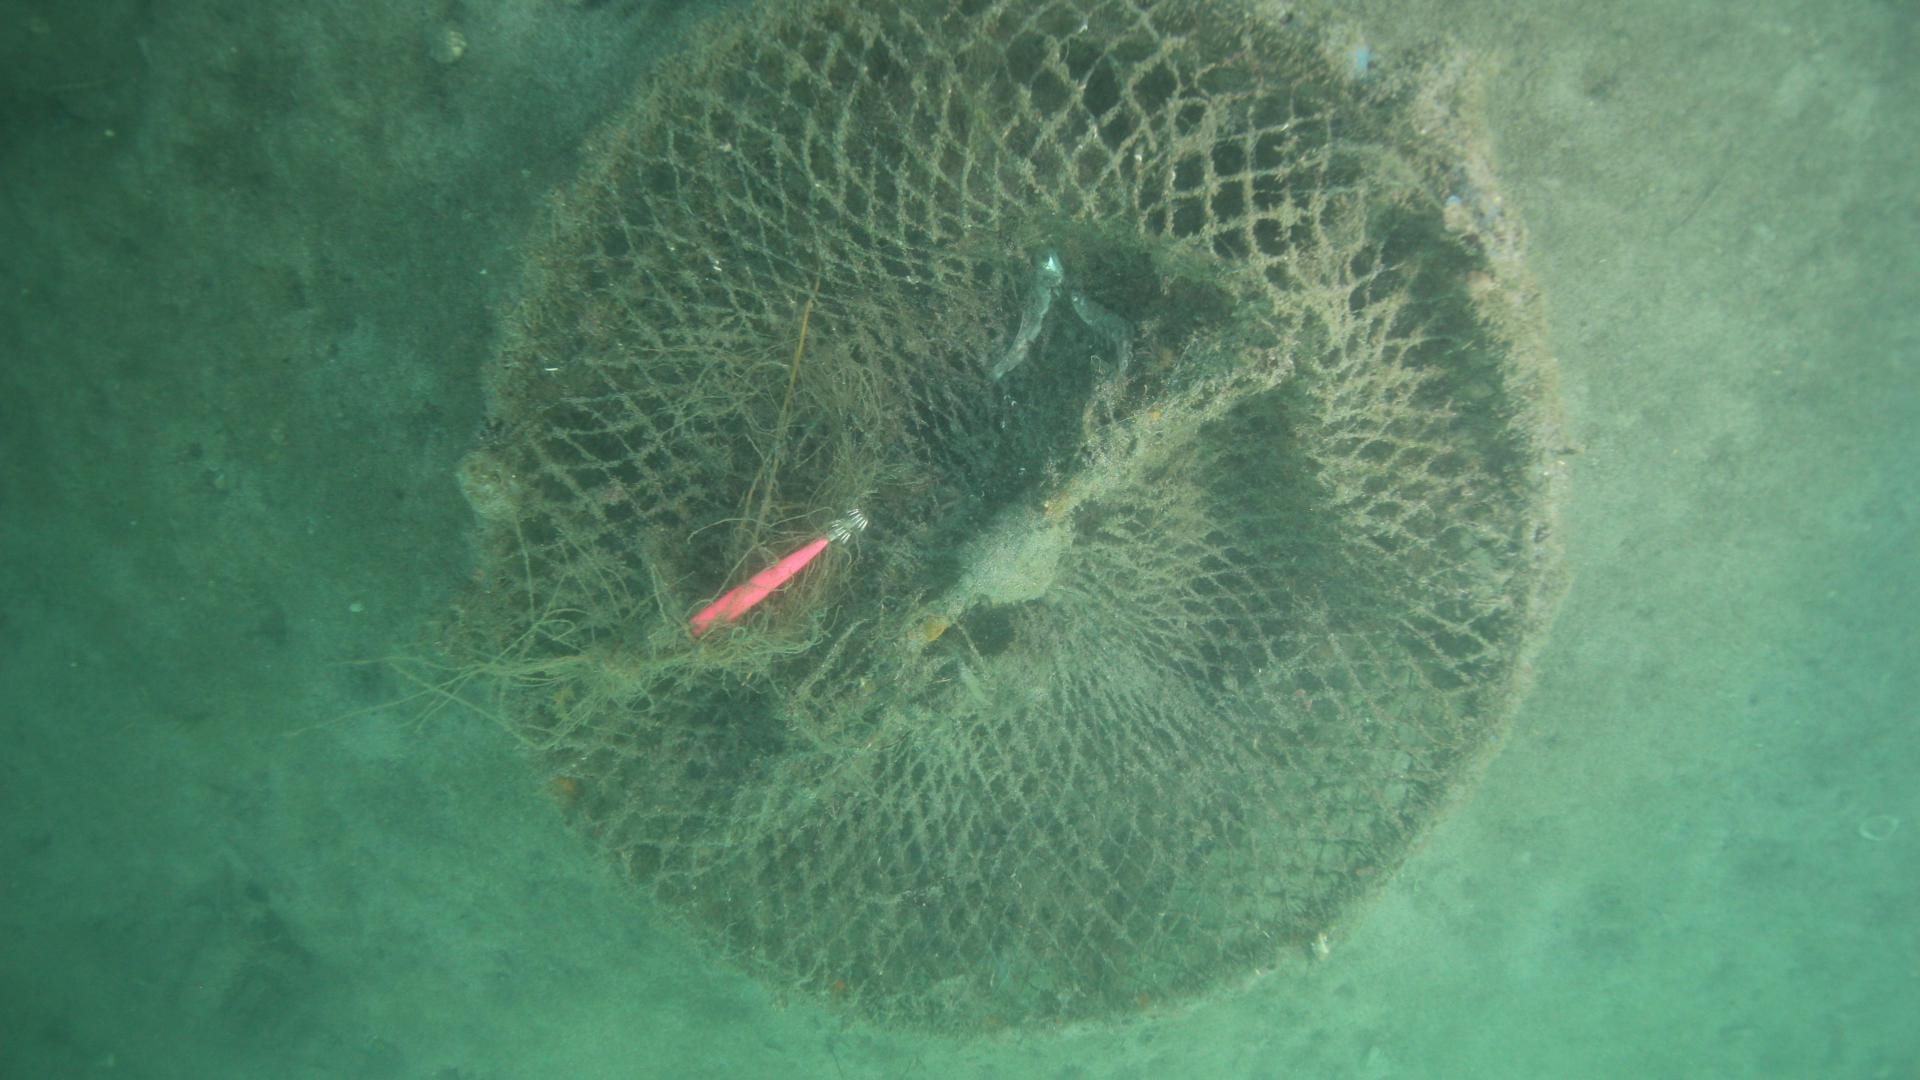circular fish trap: (465, 0, 1581, 1052)
